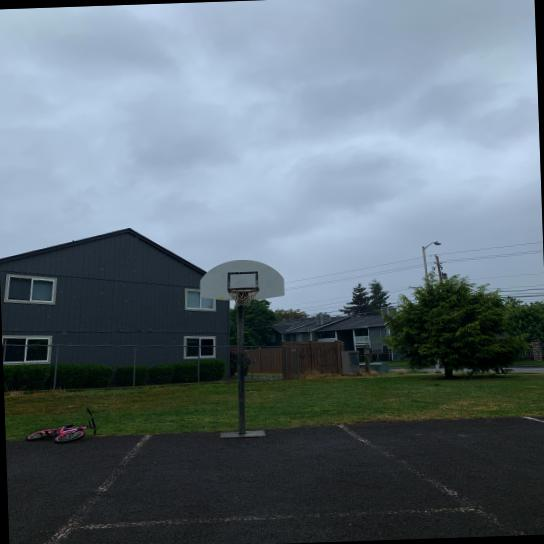basketball-hoop: (228, 286, 260, 308)
